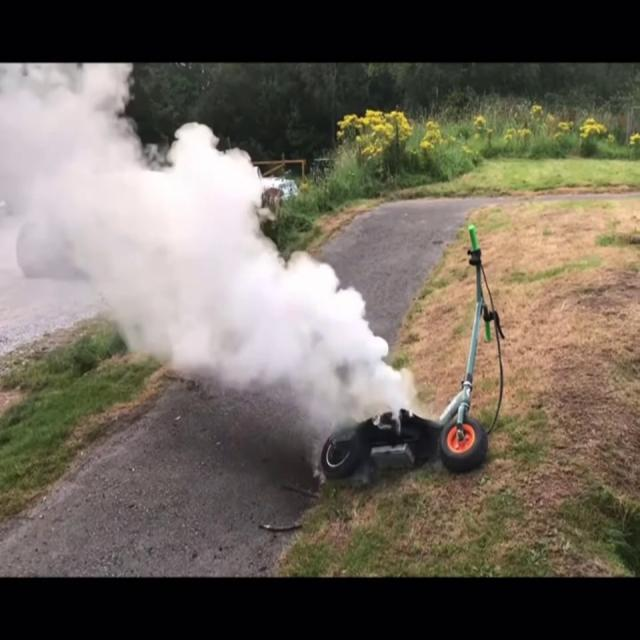Smoke: (0, 64, 217, 424), (196, 183, 420, 440)
